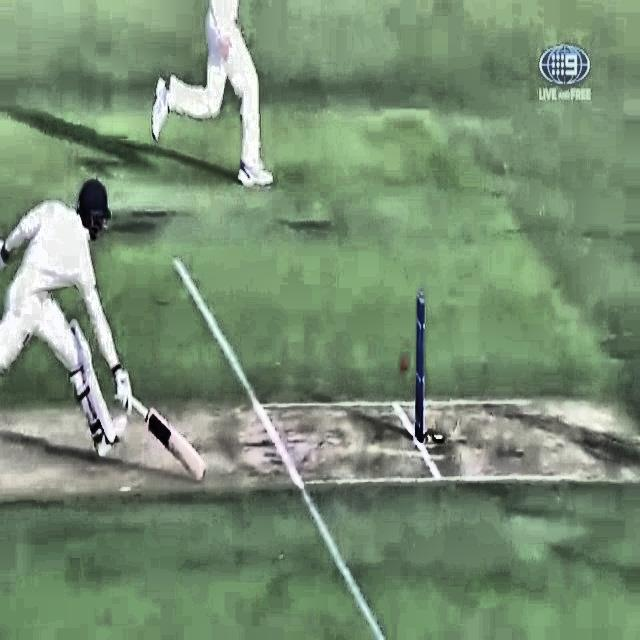Bat: (119, 389, 213, 482)
Pitch_Line: (172, 255, 384, 640)
Undis_Wicket: (410, 287, 433, 446)
